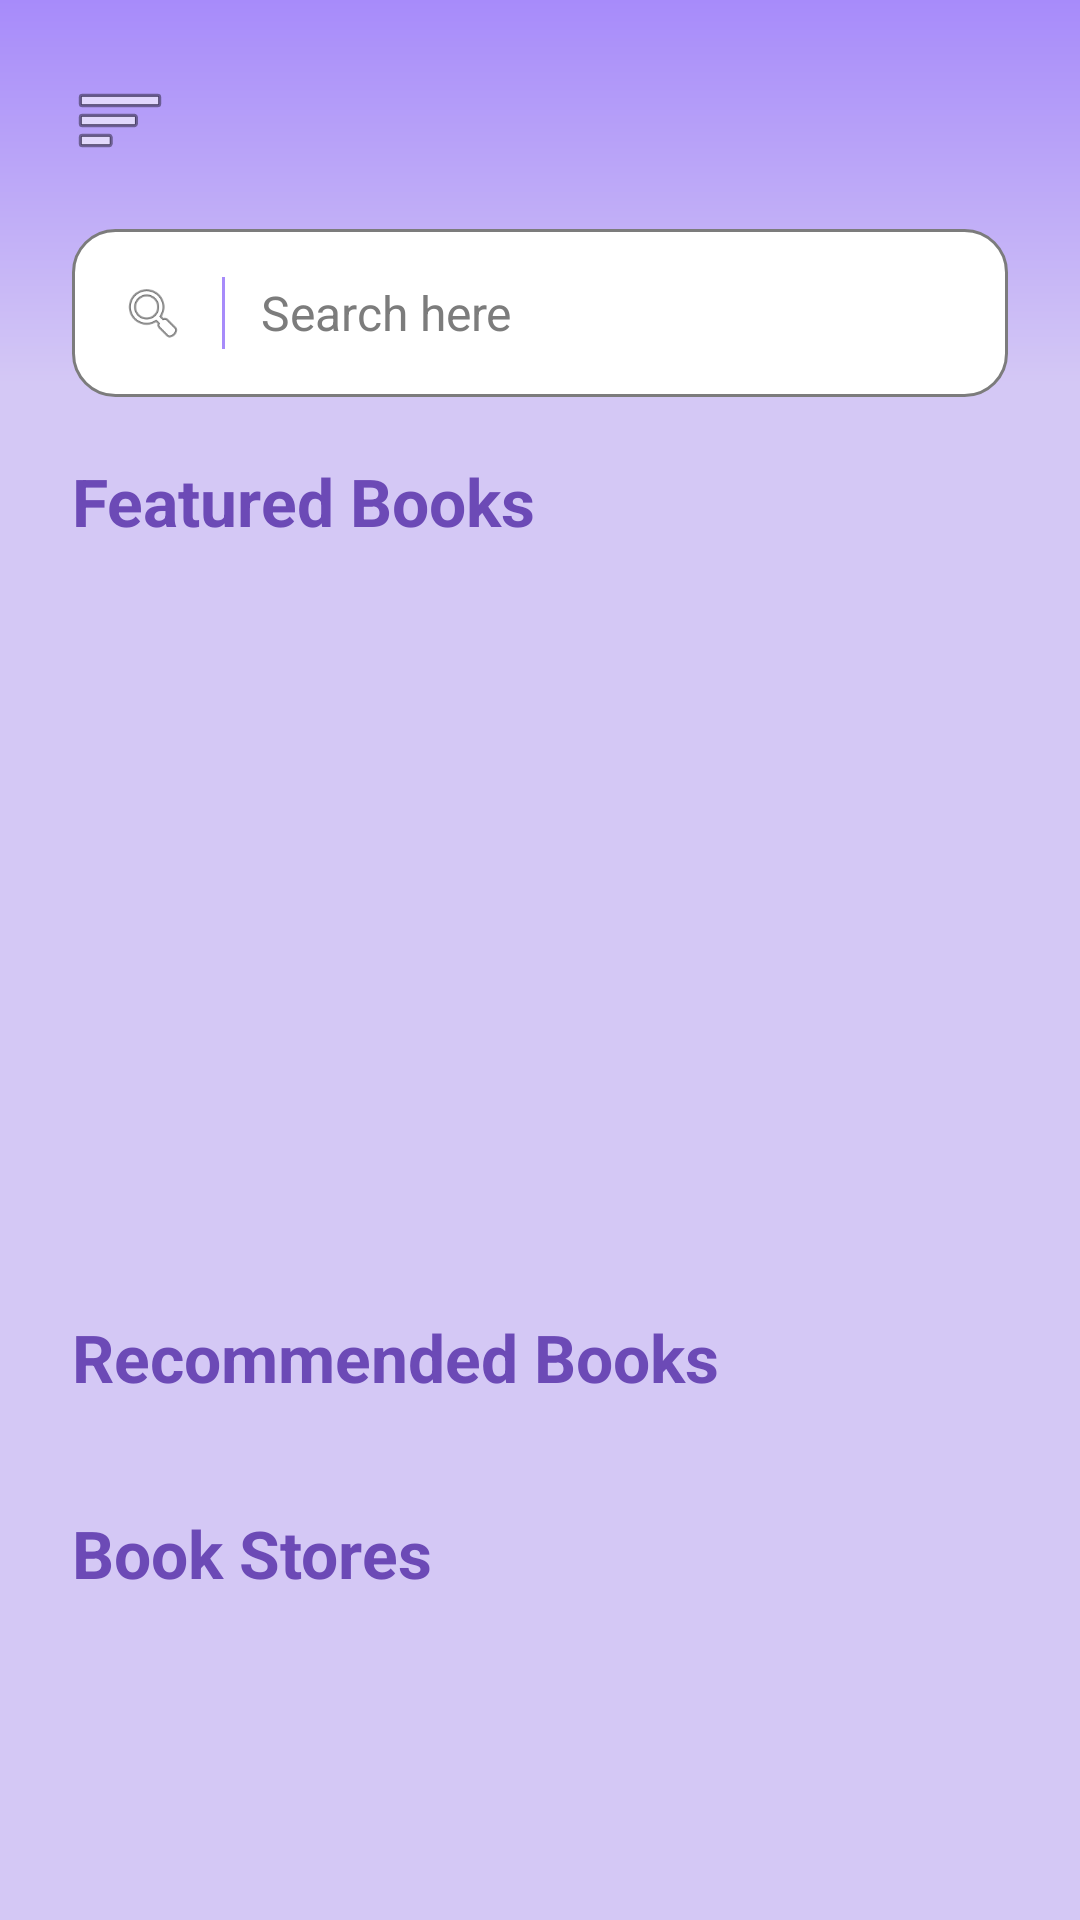

Icons on this 1080px×1920px Android screen, each with the point to tap as (x=x, y=y):
Menu: (x=120, y=120)
